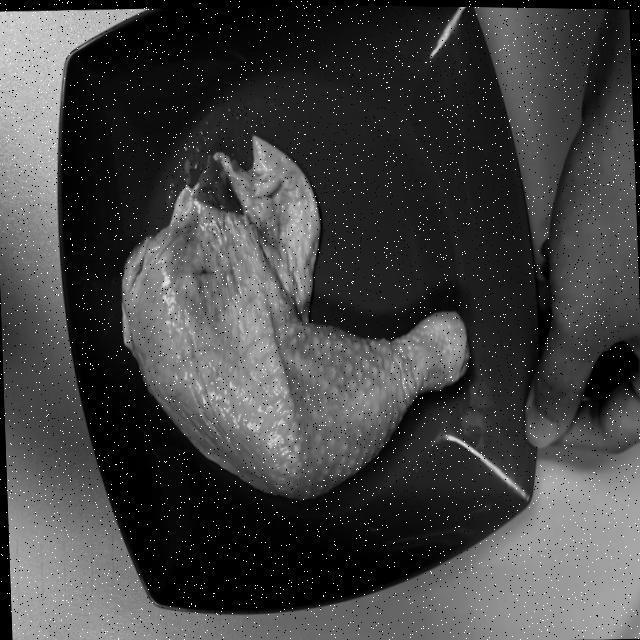quater: (128, 172, 476, 499)
